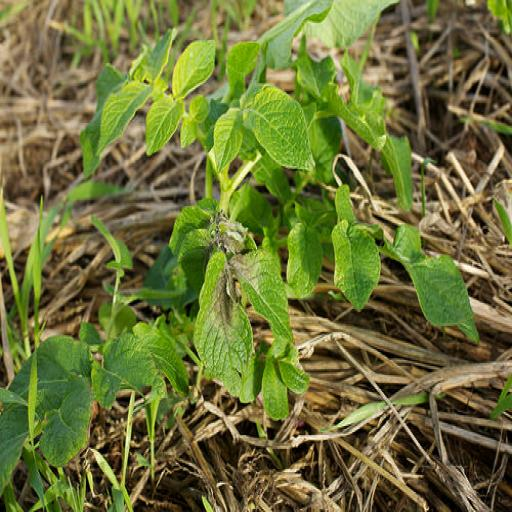Late Blight: (188, 243, 256, 406), (230, 244, 296, 348)
